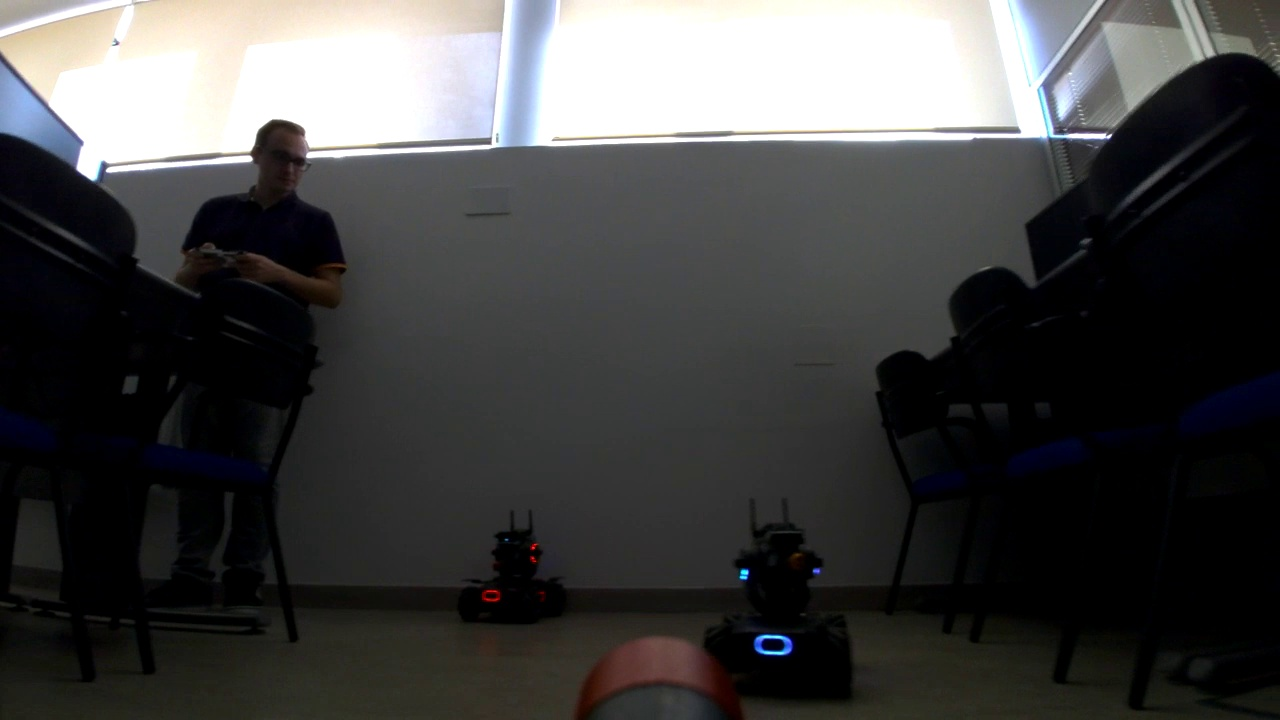robot: (700, 497, 855, 693), (460, 509, 569, 625)
